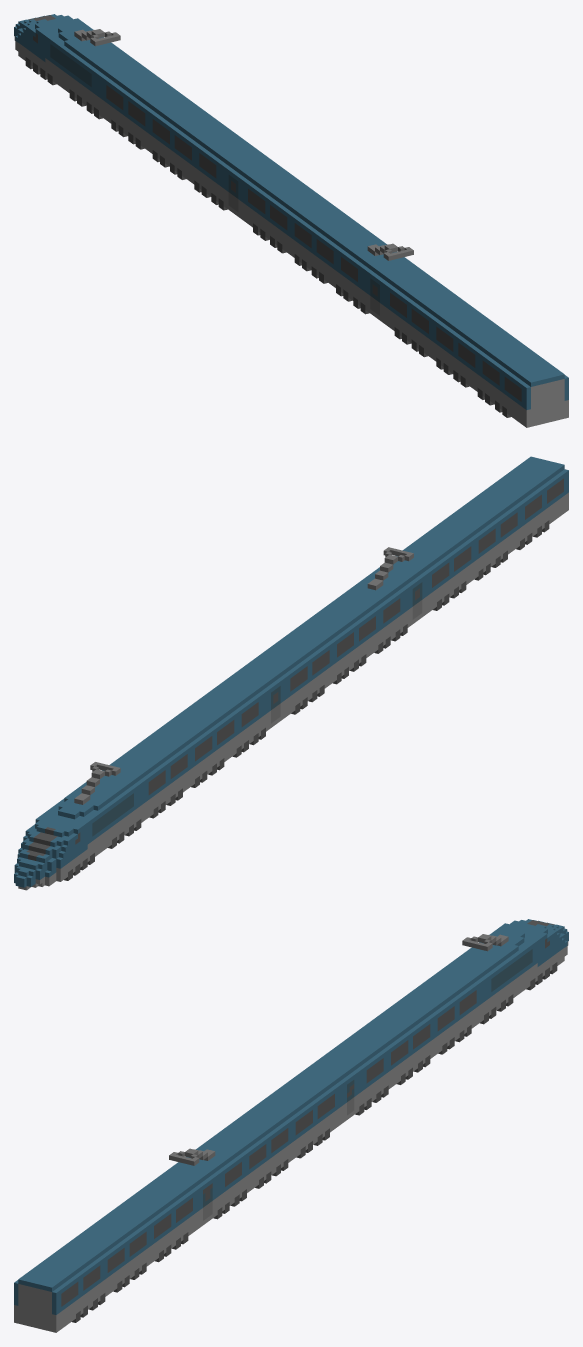
The model's file is train.vox.obj.
3 views of the same model, one above another, from view 1: azimuth 30°, elevation 25°; view 2: azimuth 150°, elevation 25°; view 3: azimuth 330°, elevation 25° (orthographic).
Bounding box in the file's own units: 1 × 1.5 × 21.6.
1 material, 1 textured.
